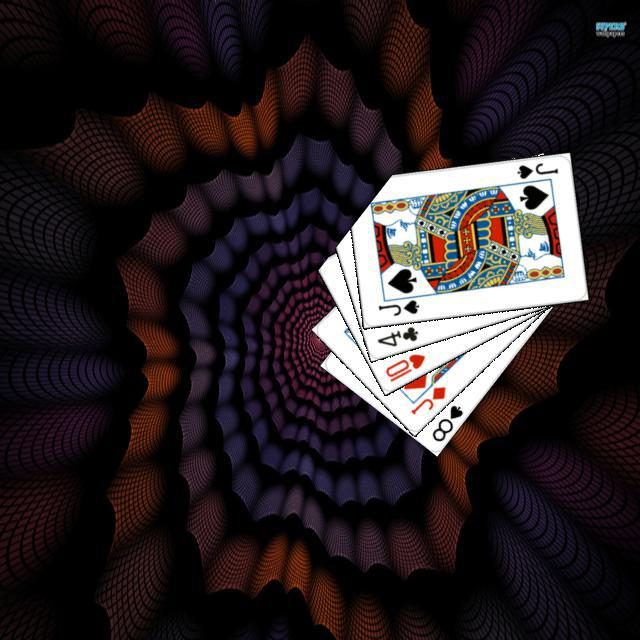10h: (380, 349, 427, 384)
4c: (372, 322, 420, 348)
8s: (427, 400, 465, 443)
Jd: (405, 381, 448, 416)
Js: (373, 295, 421, 317), (512, 158, 560, 180)
